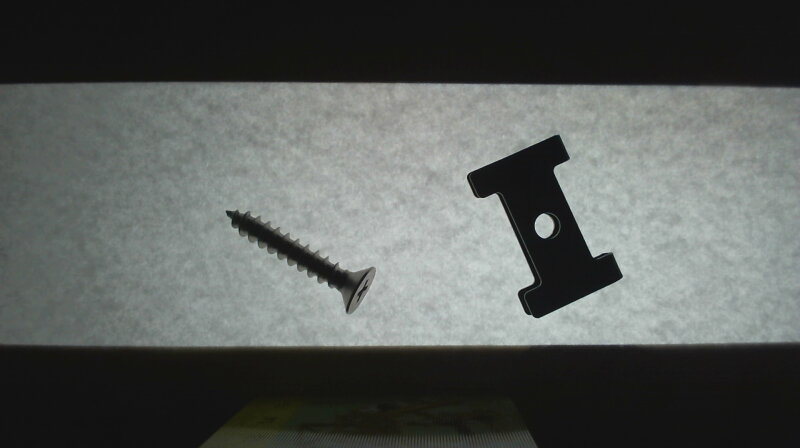O002: (464, 129, 627, 320)
S001: (220, 201, 380, 317)
